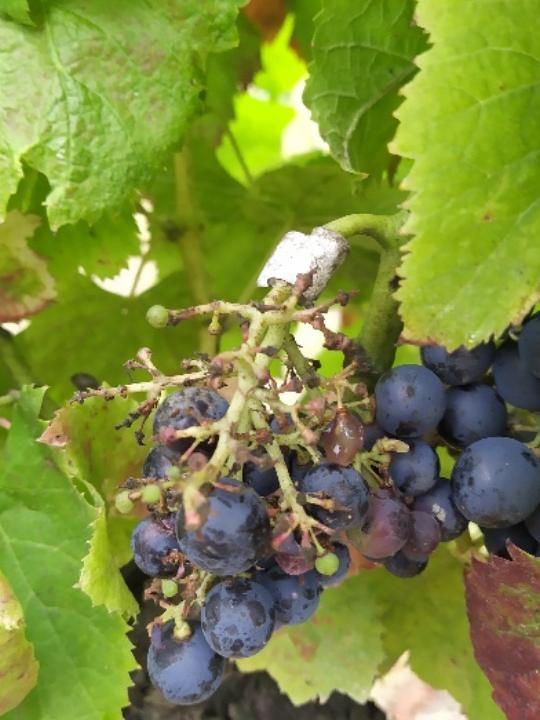grape: (70, 283, 441, 711)
